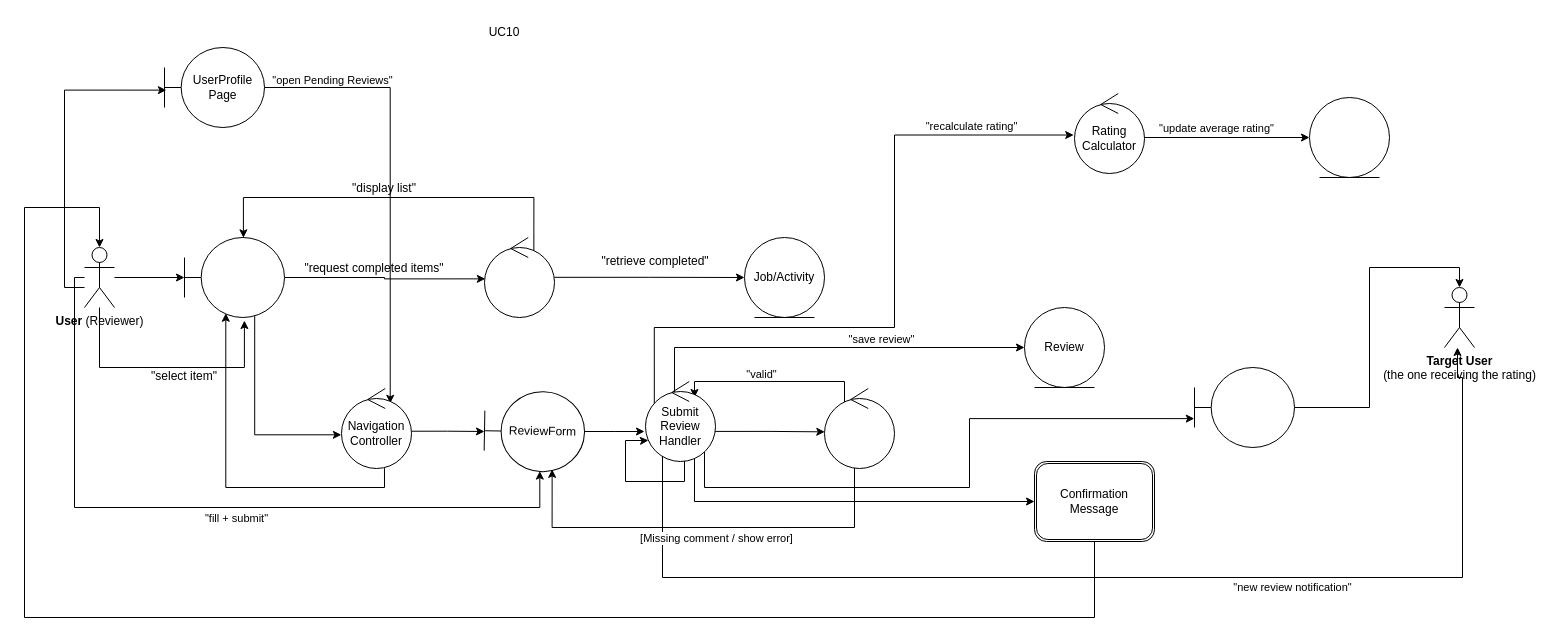
Image size: 1553x643. Some labels were removed from this diagram. Here are the shapes that lost their labels. From the top down, the box of each, then its label:
(1308, 96, 1390, 178): UserProfile
(184, 236, 284, 318): Pending ReviewsPage
(484, 236, 554, 318): Review Controller
(1194, 366, 1294, 448): Notification Service
(824, 388, 894, 468): Input Validator
